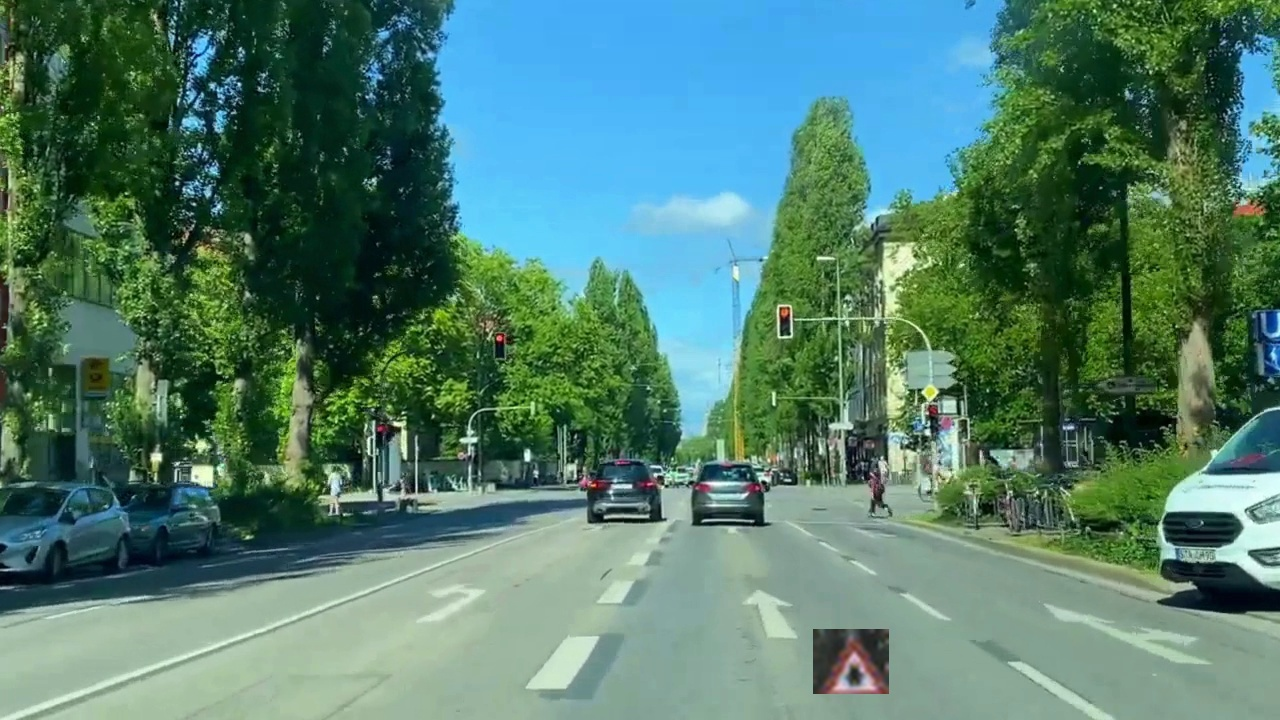Right-of-way: (813, 629, 889, 694)
